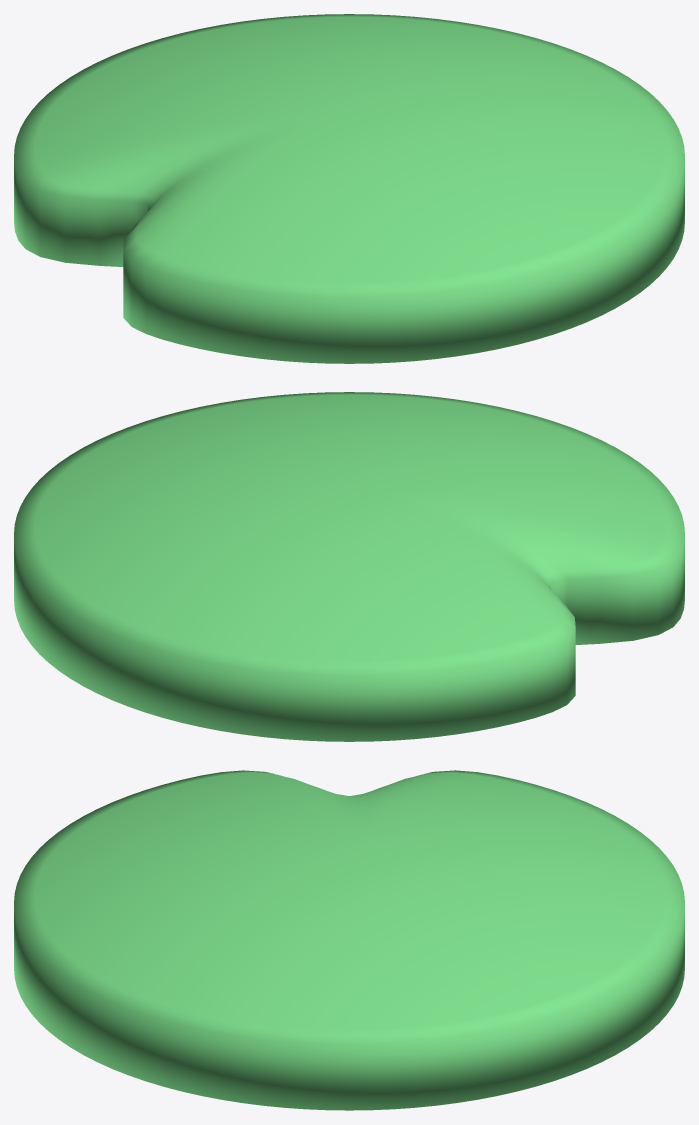
The model's file is recipe-lilypad.glb.
3 views of the same model, one above another, from view 1: azimuth 30°, elevation 25°; view 2: azimuth 150°, elevation 25°; view 3: azimuth 270°, elevation 25° (orthographic).
Parts seen in each view (by area): view 1: Notched flattened jelly lily; view 2: Notched flattened jelly lily; view 3: Notched flattened jelly lily.
Boxes of the visible parts, bbox=[...] form: Notched flattened jelly lily: bbox=[14, 14, 684, 363]; Notched flattened jelly lily: bbox=[14, 392, 684, 741]; Notched flattened jelly lily: bbox=[14, 770, 684, 1110].
Bounding box in the file's own units: 1.2 × 0.235 × 1.24.
